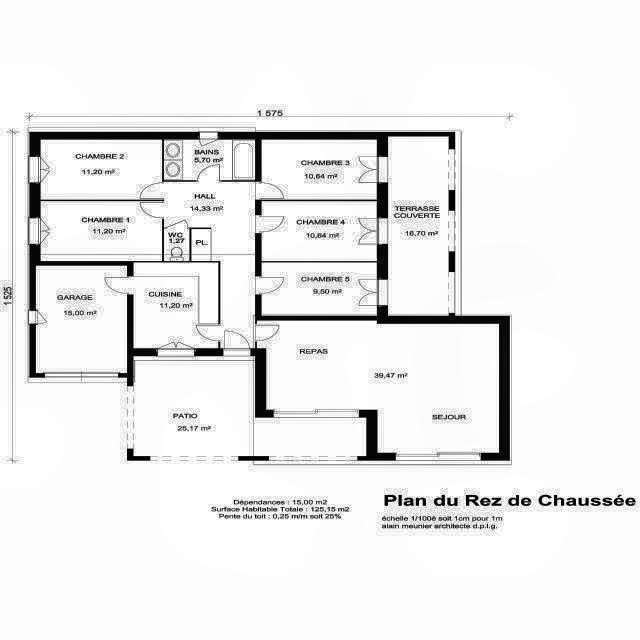room: (257, 320, 499, 453), (164, 181, 255, 348), (388, 137, 449, 316), (36, 266, 127, 373), (41, 140, 162, 200), (41, 201, 162, 261), (134, 262, 218, 348), (262, 140, 377, 200), (262, 201, 377, 261), (262, 262, 377, 316), (164, 140, 255, 180), (164, 229, 189, 261)
